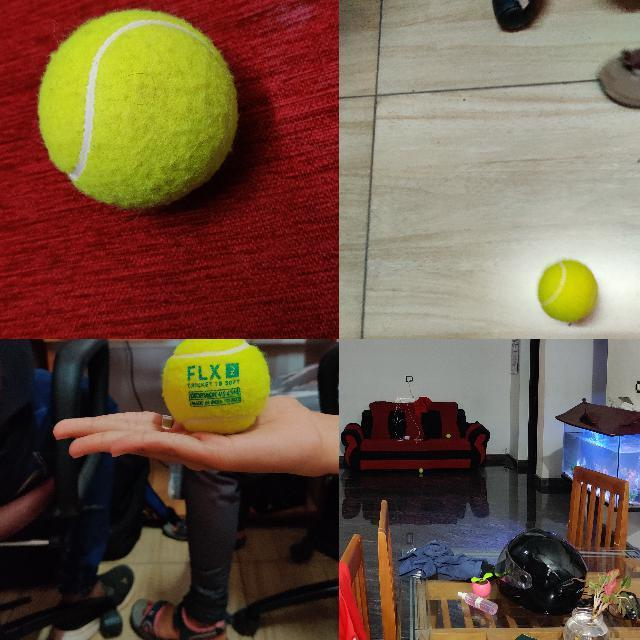tennis-ball: (37, 9, 237, 209), (162, 339, 270, 431), (539, 261, 598, 321), (446, 434, 451, 438), (418, 468, 422, 472)
